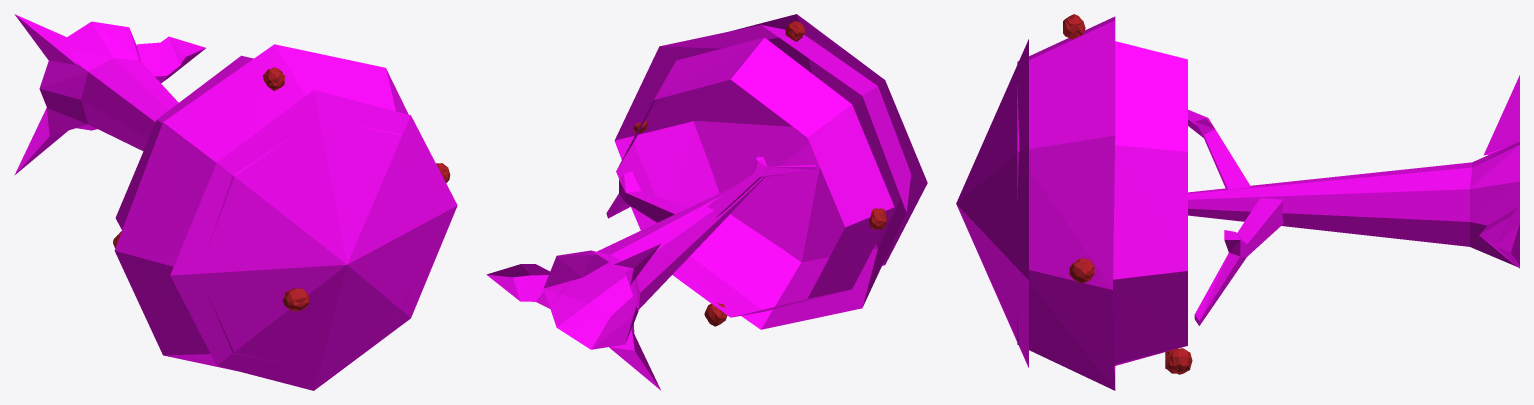
Rendered from 5_mature_full.obj.
The picture shows the model from 3 angles, left to right: view 1: azimuth 30°, elevation 25°; view 2: azimuth 150°, elevation 25°; view 3: azimuth 270°, elevation 25°; orthographic projection. The views are drawn at different scales.
Visible parts, largest first — view 1: appletree; view 2: appletree; view 3: appletree.
Part boxes in pixels (bbox=[...]): appletree: bbox=[14, 14, 457, 390]; appletree: bbox=[486, 14, 927, 390]; appletree: bbox=[956, 14, 1519, 390].
Bounding box in the file's own units: 1.79 × 1.78 × 2.48.
